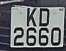0: (50, 25, 63, 49)
2: (11, 26, 26, 49)
6: (25, 25, 39, 49), (38, 25, 51, 49)
D: (37, 6, 52, 29)
K: (26, 7, 40, 29)
